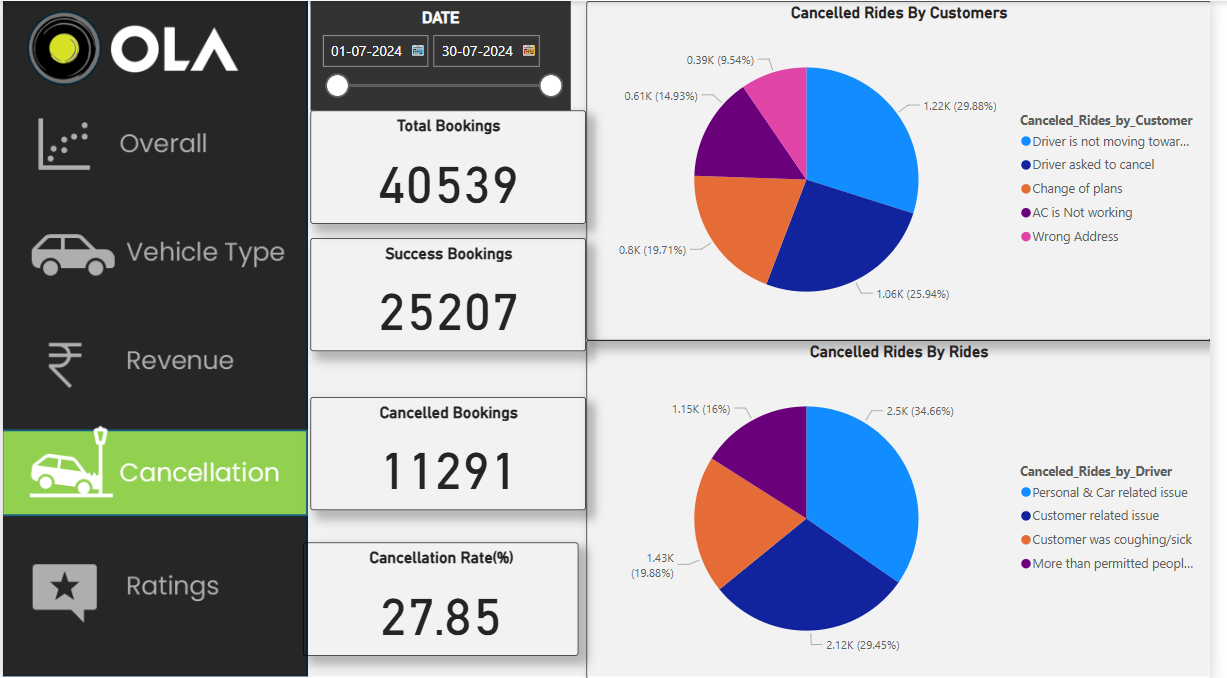

This screenshot's page, from the dashboard's own definition file:
{"tool":"powerbi","page":{"name":"Cancellation","canvas":[1280,720],"ordinal":3},"visuals":[{"type":"actionButton","box":[0,220.3,326.1,92.8],"z":0},{"type":"actionButton","box":[0,336.2,326.1,92.8],"z":1000},{"type":"actionButton","box":[0,573.9,326.1,92.8],"z":2000},{"type":"actionButton","box":[0,108.7,326.1,92.8],"z":3000},{"type":"pieChart","title":"Cancelled Rides By Customers","fields":{"Category":["Bookings-40000-Rows.Canceled_Rides_by_Customer"],"Y":["CountNonNull(Bookings-40000-Rows.Canceled_Rides_by_Customer)"]},"box":[618,0,662,360],"z":3001},{"type":"pieChart","title":"Cancelled Rides By Rides","fields":{"Category":["Bookings-40000-Rows.Canceled_Rides_by_Driver"],"Y":["CountNonNull(Bookings-40000-Rows.Canceled_Rides_by_Driver)"]},"box":[618,360,662,360],"z":3002},{"type":"slicer","title":"DATE","fields":{"Values":["Bookings-40000-Rows.Date"]},"box":[326,0,276,116],"z":3003},{"type":"card","title":"Total Bookings","fields":{"Values":["CountNonNull(Bookings-40000-Rows.Booking_ID)"]},"box":[326,116,292,120],"z":3004},{"type":"card","title":"Success Bookings","fields":{"Values":["CountNonNull(Bookings-40000-Rows.Booking_ID)"]},"box":[326,252,292,120],"z":3005},{"type":"card","title":" Cancelled Bookings","fields":{"Values":["CountNonNull(Bookings-40000-Rows.Booking_ID)"]},"box":[326,420,292,120],"z":3006},{"type":"card","title":"Cancellation Rate(%)","fields":{"Values":["Bookings-40000-Rows.CancelledPercentage"]},"box":[318,574,292,120],"z":3007}]}

Visuals, with their boxes in screenshot pixels (x1, y1, x2, y2), scaled from the page's 1280x720 canvas onto the 1227x678 screenshot:
actionButton: rect(0, 207, 313, 295)
actionButton: rect(0, 317, 313, 404)
actionButton: rect(0, 540, 313, 628)
actionButton: rect(0, 102, 313, 190)
"Cancelled Rides By Customers" pieChart: rect(592, 0, 1226, 339)
"Cancelled Rides By Rides" pieChart: rect(592, 339, 1226, 677)
"DATE" slicer: rect(313, 0, 577, 109)
"Total Bookings" card: rect(313, 109, 592, 222)
"Success Bookings" card: rect(313, 237, 592, 350)
" Cancelled Bookings" card: rect(313, 396, 592, 508)
"Cancellation Rate(%)" card: rect(305, 541, 585, 654)
